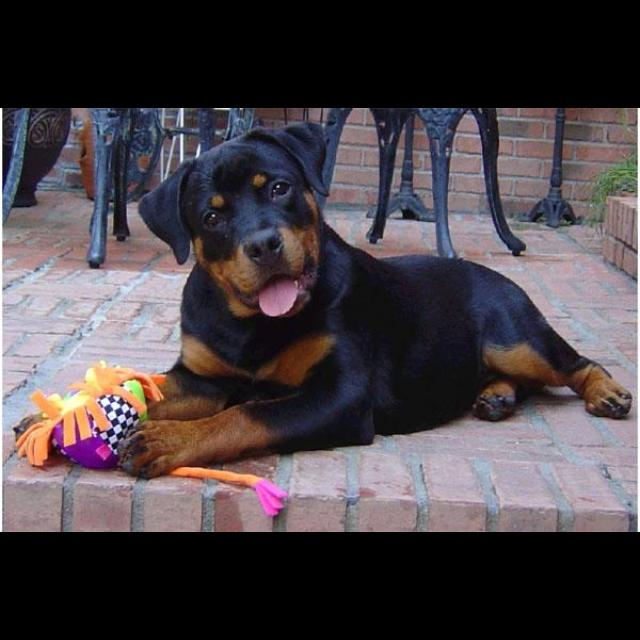rottweiler: (117, 119, 634, 480)
